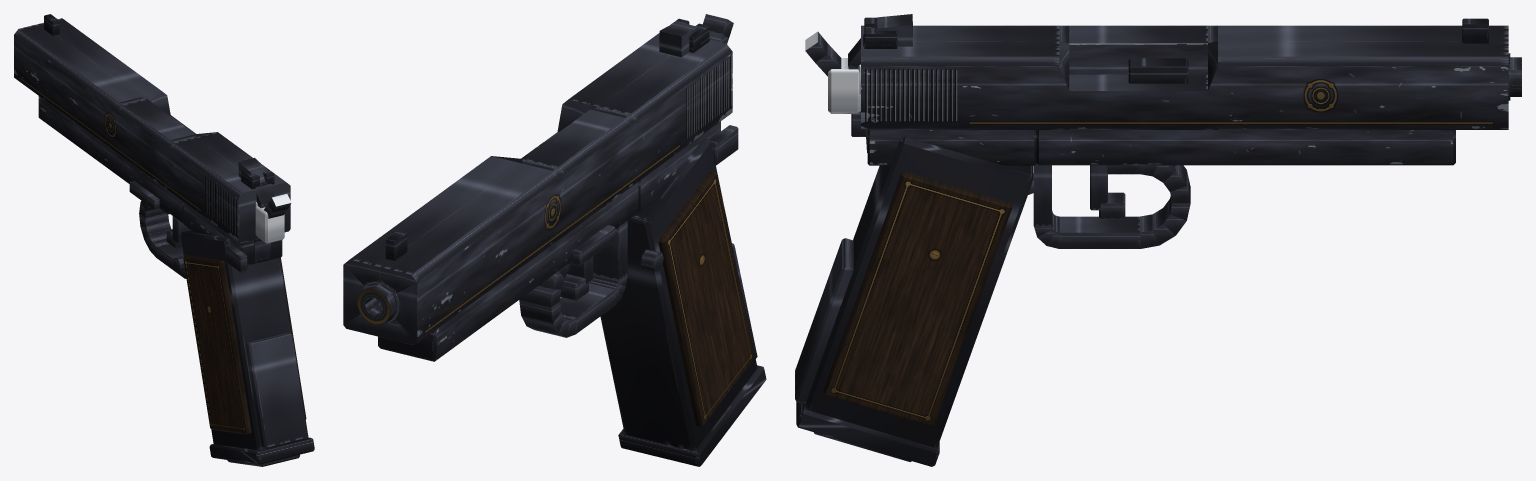
File: pistol_1911_camo_uncommon.glb
3 views of the same model, side by side, from view 1: azimuth 30°, elevation 25°; view 2: azimuth 150°, elevation 25°; view 3: azimuth 270°, elevation 25° (orthographic). The views are drawn at different scales.
Parts seen in each view (by area): view 1: frame, slide; view 2: frame, slide; view 3: frame, slide.
Boxes of the visible parts, bbox=[...] form: frame: bbox=[38, 96, 314, 464]; slide: bbox=[14, 14, 290, 243]; frame: bbox=[356, 14, 766, 466]; slide: bbox=[343, 18, 732, 345]; frame: bbox=[795, 14, 1521, 466]; slide: bbox=[861, 17, 1508, 129].
Size of the model in its own units: 0.0306 by 0.1435 by 0.22.
2 materials, 2 textured.
